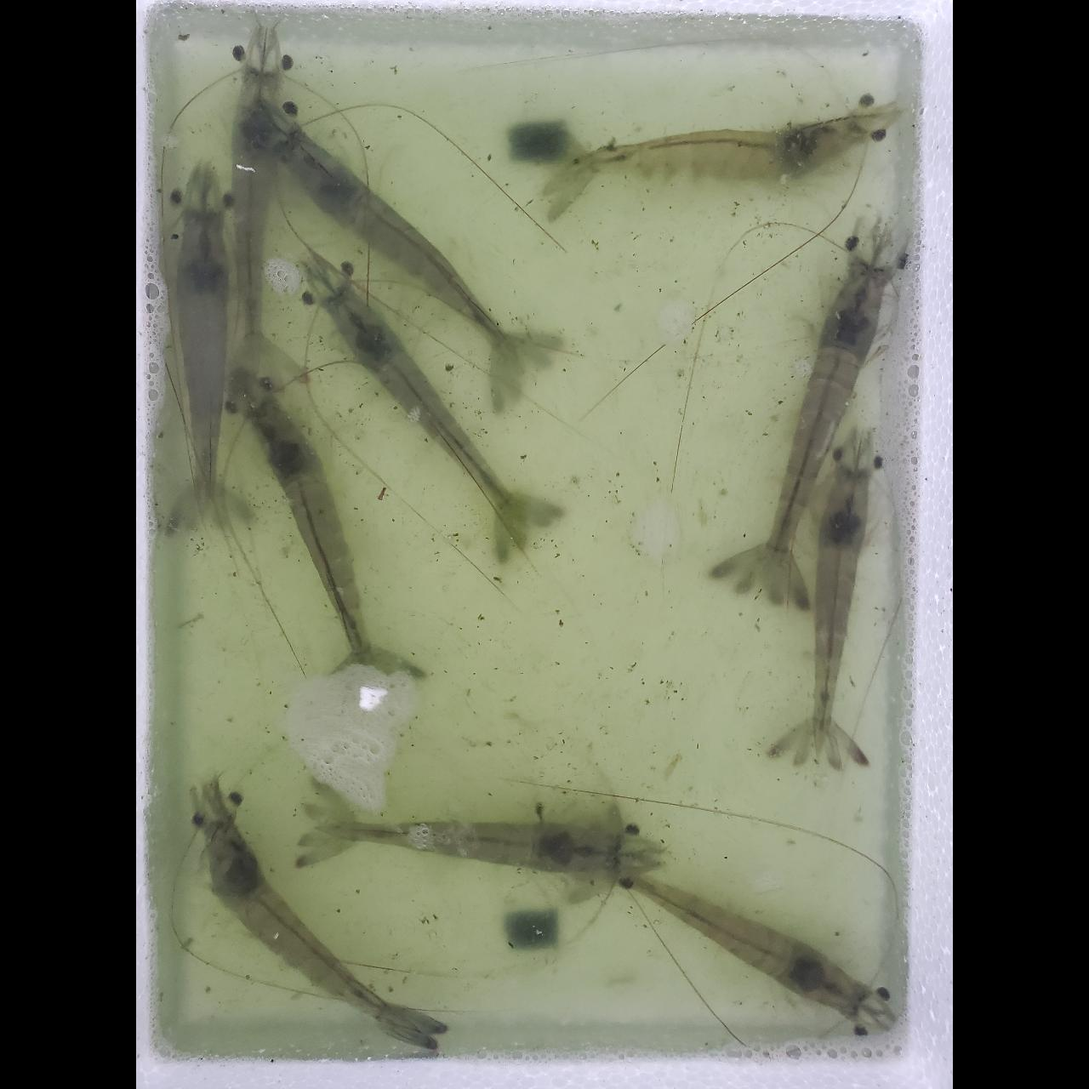box: (511, 120, 570, 166), (504, 904, 557, 949)
top_shrimp: (275, 130, 526, 379), (204, 806, 424, 1031), (325, 291, 531, 531), (584, 858, 859, 1012), (760, 262, 885, 598), (244, 404, 372, 693), (550, 115, 874, 176), (810, 472, 869, 770), (177, 216, 229, 540), (311, 821, 619, 875), (231, 72, 283, 390)
